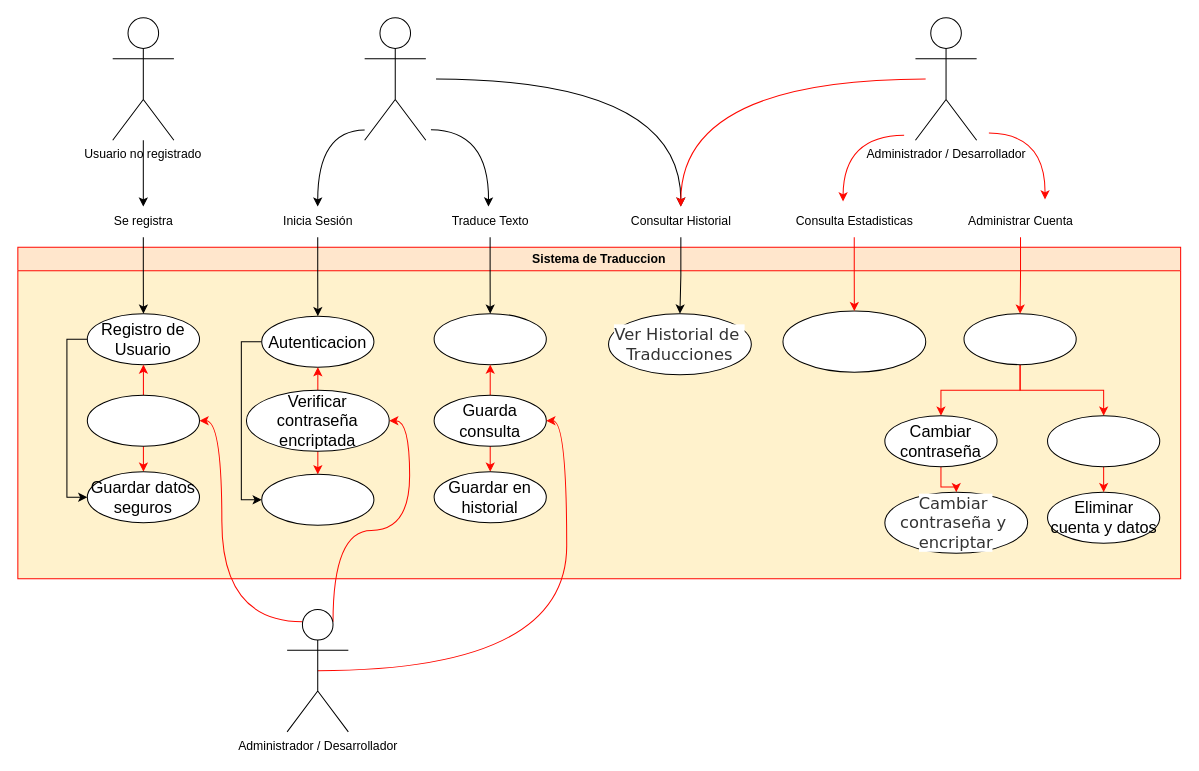
This 1199x771 diagram has some shape labels left out. The box of each missing label's shape, as (x1, y1, x2, y2) in pixels:
Configuración Usuarios: (963, 313, 1076, 365)
Eliminar cuenta: (1047, 415, 1160, 467)
Encriptar contraseña: (86, 394, 200, 446)
Mostrar traducción más frecuente: (782, 310, 926, 372)
Realizar traducción: (433, 313, 546, 365)
Usuario Registrado: (364, 17, 426, 140)
Validar Credenciales: (261, 473, 374, 525)
